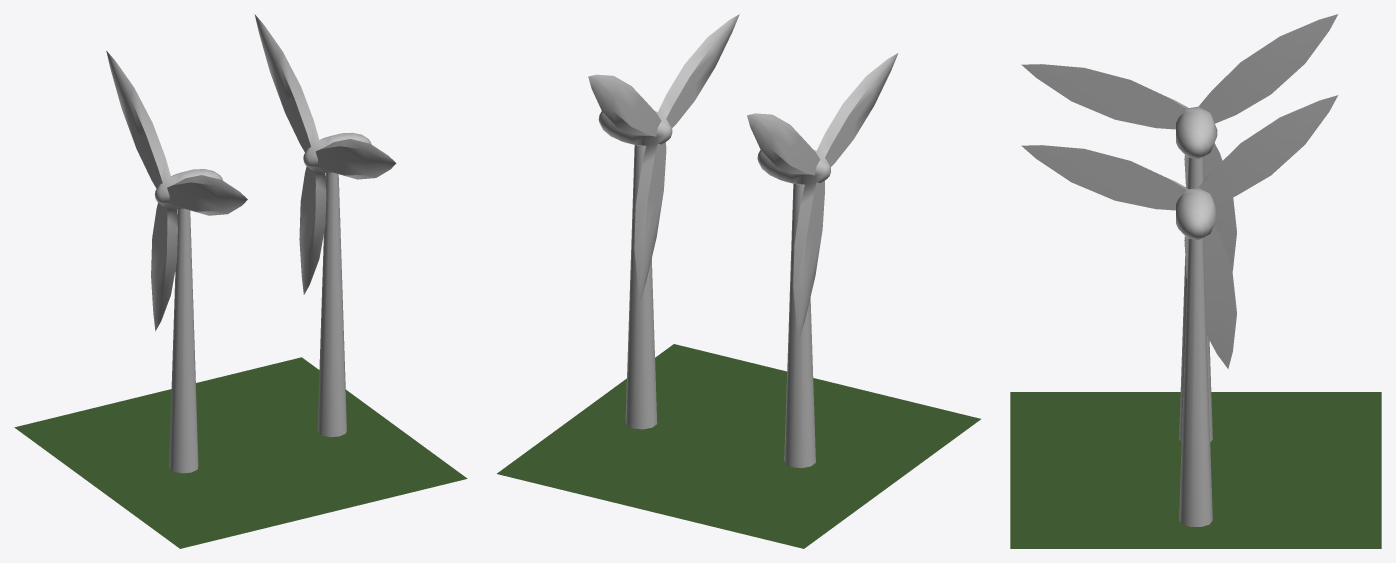
The model's file is IndustrieEcologique.fbx.
The picture shows the model from 3 angles, left to right: view 1: azimuth 30°, elevation 25°; view 2: azimuth 150°, elevation 25°; view 3: azimuth 270°, elevation 25°; orthographic projection. The views are drawn at different scales.
Parts seen in each view (by area): view 1: EnergieEolienne, Circle.001, Circle.002; view 2: EnergieEolienne, Circle.001, Circle.002; view 3: EnergieEolienne, Circle.001, Circle.002.
Part boxes in pixels (<box>): EnergieEolienne: <box>14,357,467,548</box>; Circle.001: <box>254,14,396,437</box>; Circle.002: <box>106,51,247,473</box>; EnergieEolienne: <box>497,344,980,548</box>; Circle.001: <box>588,14,739,429</box>; Circle.002: <box>747,53,898,467</box>; EnergieEolienne: <box>1010,392,1381,548</box>; Circle.001: <box>1021,95,1338,526</box>; Circle.002: <box>1021,14,1338,441</box>.
Size of the model in its own units: 1000 by 1241 by 1000.
